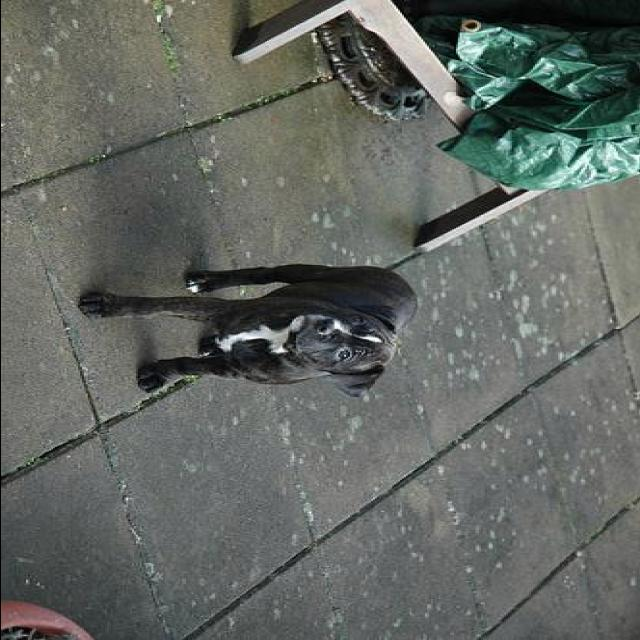staffordshire_bullterrier: (79, 262, 424, 400)
